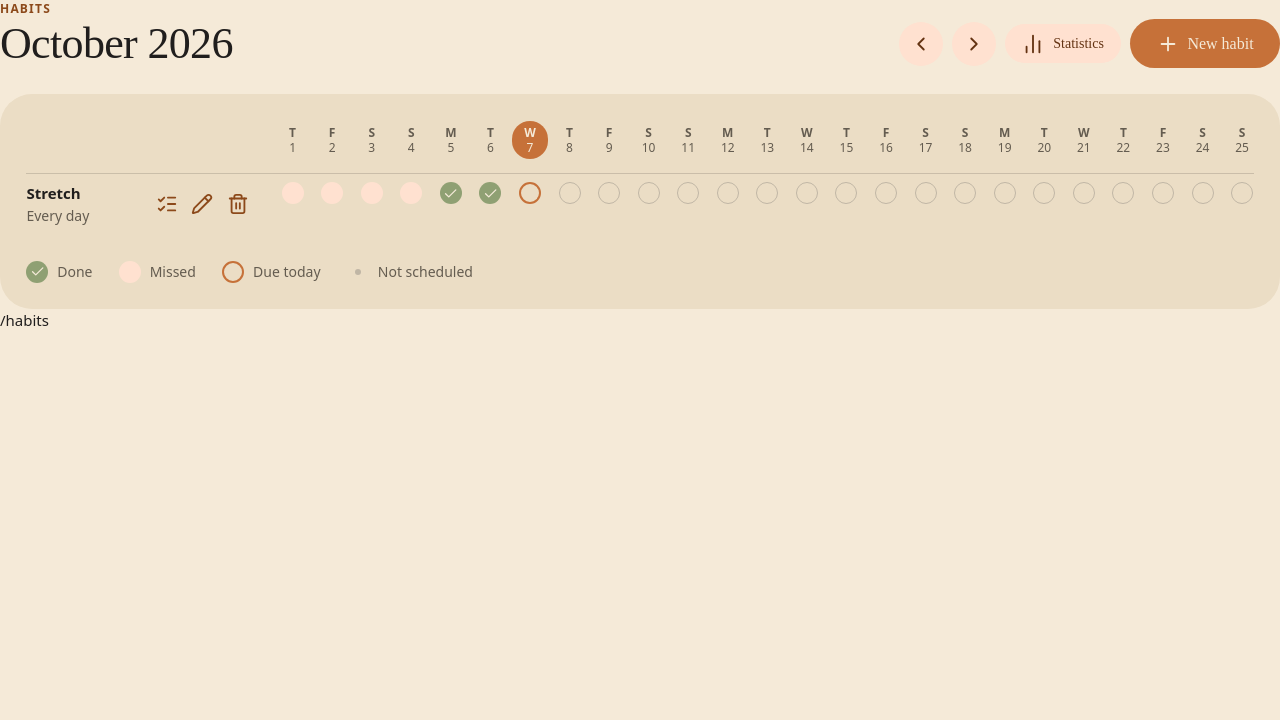
Test: adding a habit › creates it from today on, closes the dialog and shows it in the grid
The image size is (1280, 720).
Expected: the table is shown, 26,121 -> 1254,234
Click the button "New habit" at [1205, 44], box 1130,20 -> 1279,68
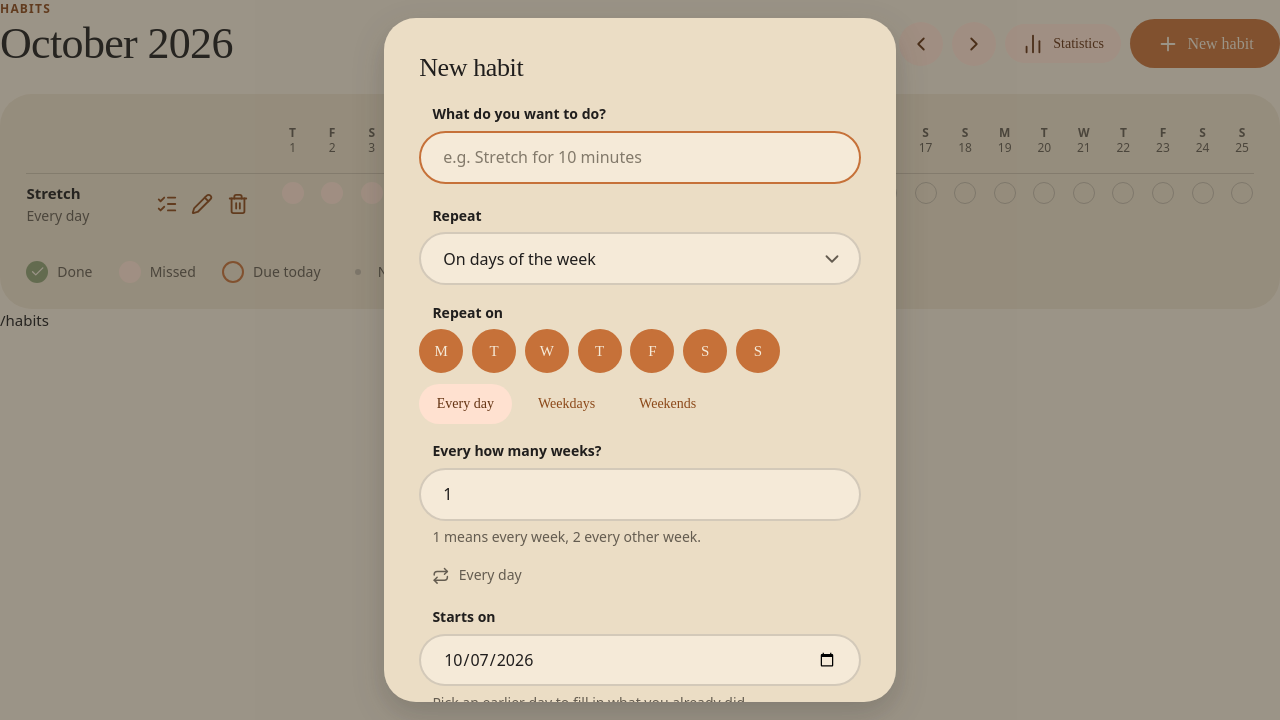
Type "Meditate" into the field labelled "What do you want to do?" at [640, 157], box 419,131 -> 861,184
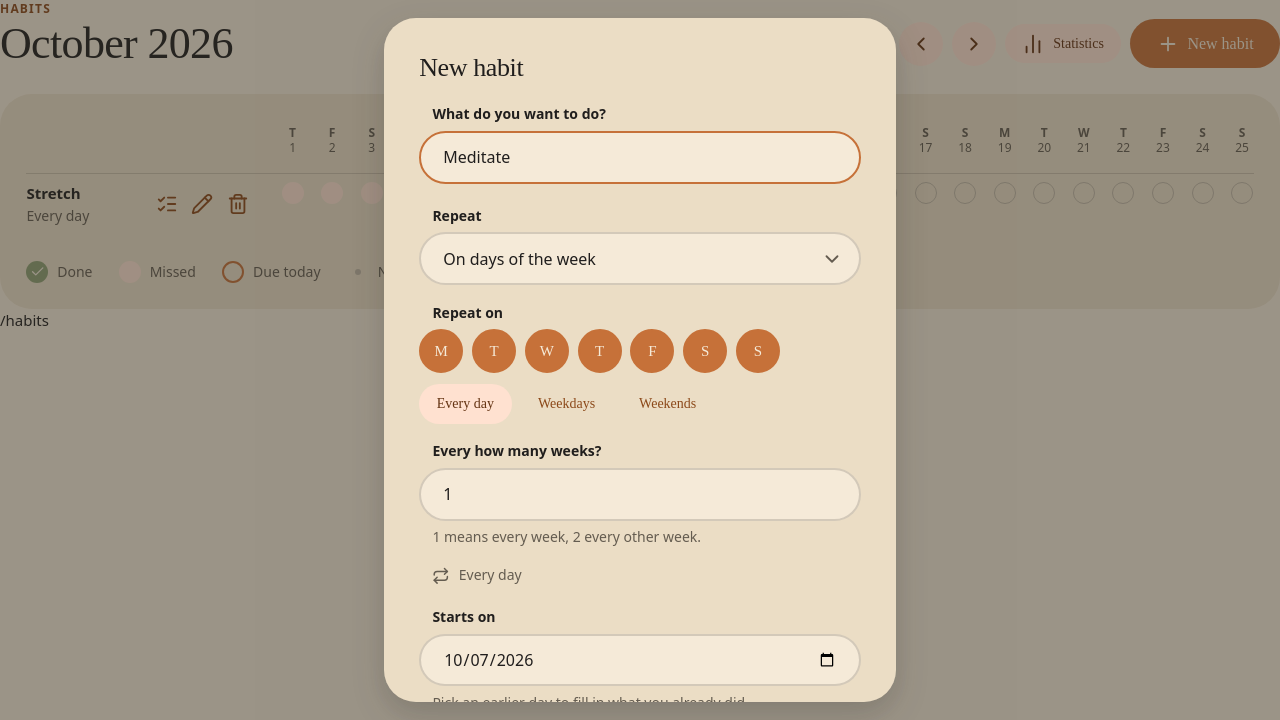
Click the button "Weekdays" at [566, 404], box 520,384 -> 613,424
(page scrolled)
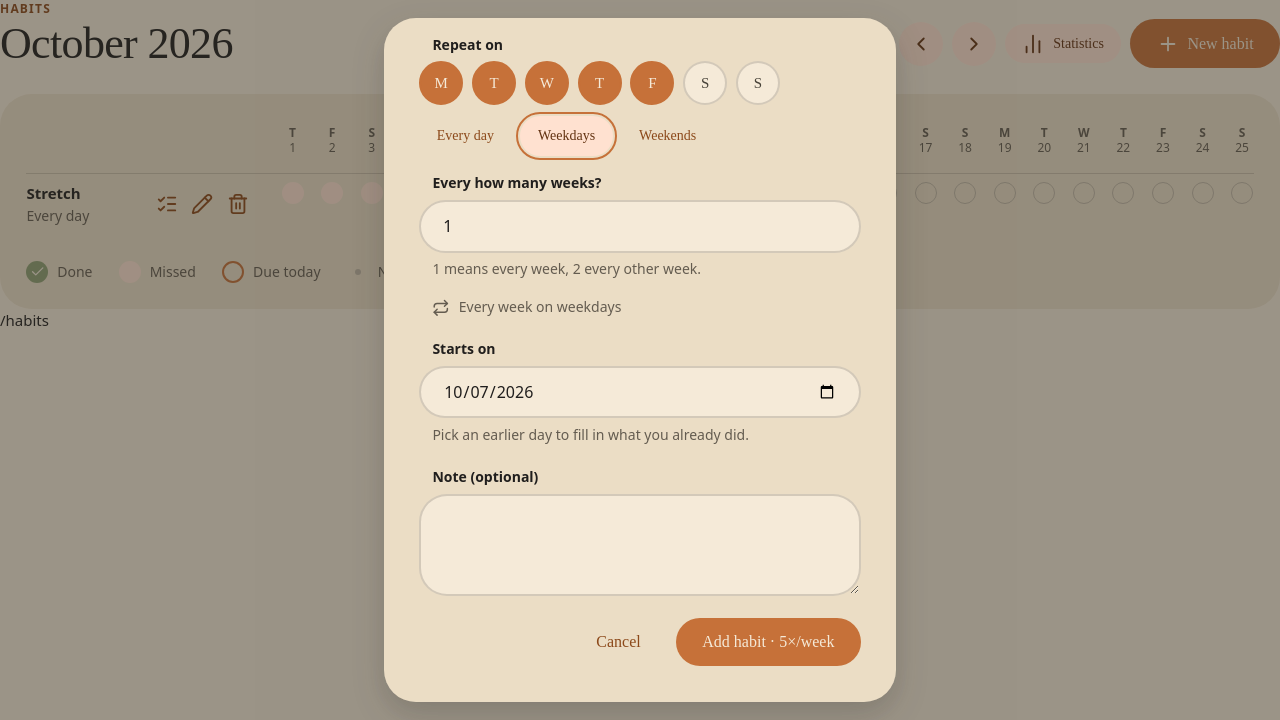
Expected: the button "Add habit · 5×/week" is enabled
Click the button "Add habit · 5×/week" at [768, 642], box 676,618 -> 861,666
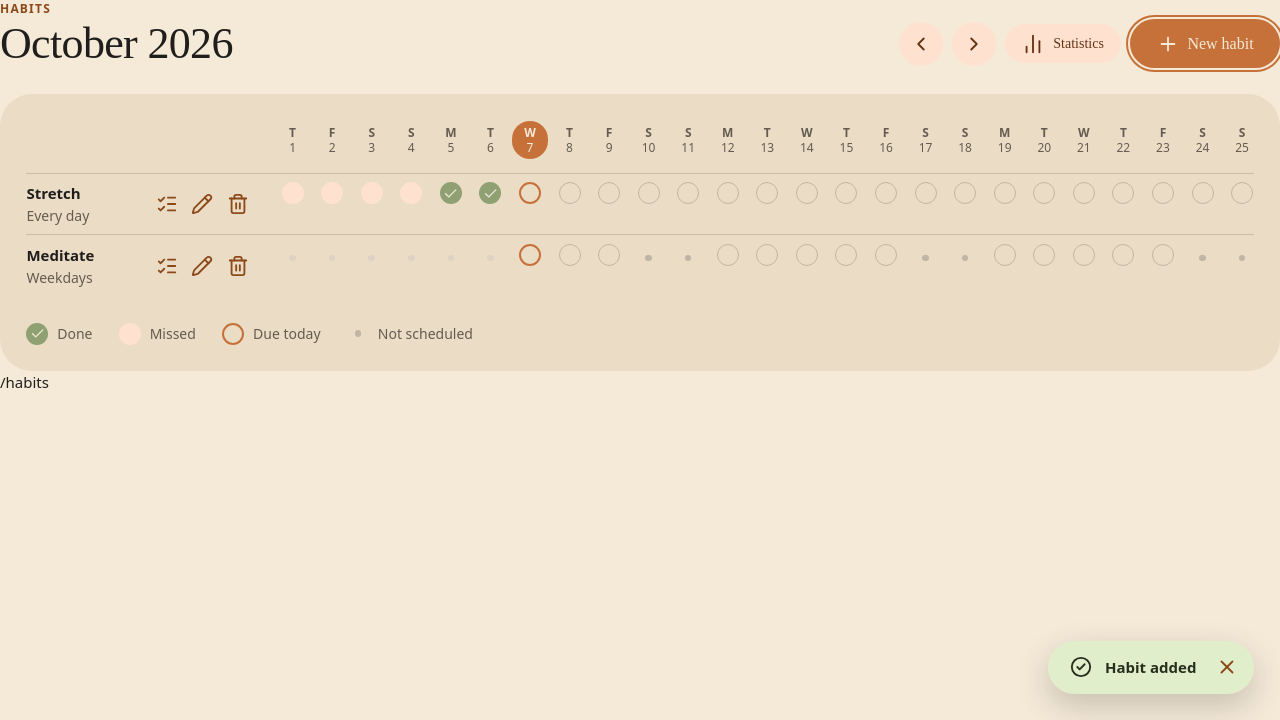
Expected: the column heading "Meditate Weekdays" is shown, 26,234 -> 273,296
Expected: the dialog is gone
Expected: the message reads "Habit added", 1105,657 -> 1196,677
